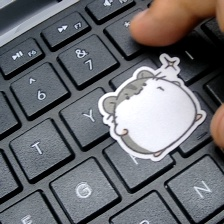mouse: (98, 50, 210, 163)
